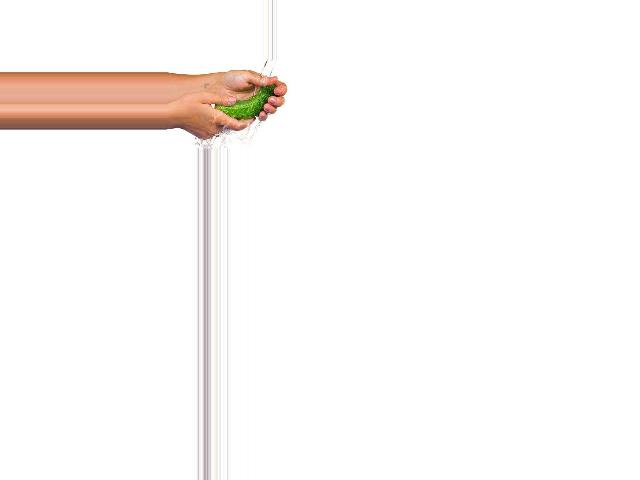cucumber: (213, 85, 275, 120)
